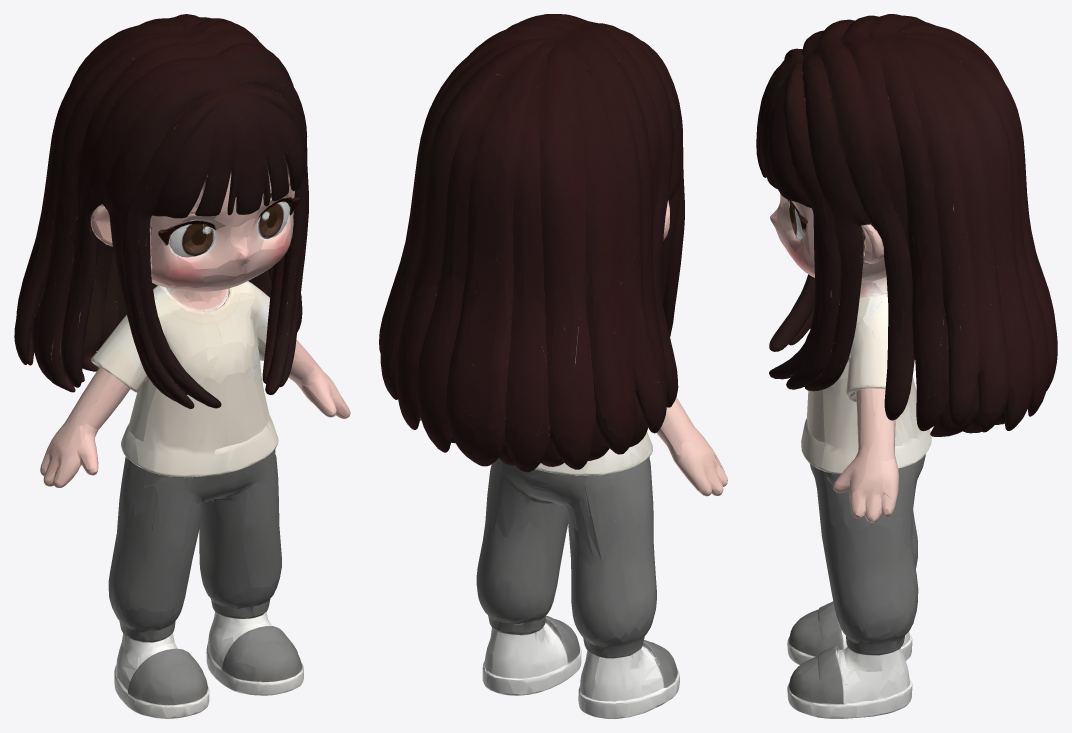
The model's file is hero_toy_b_meshy_mv_559fef1a.glb.
3 views of the same model, side by side, from view 1: azimuth 30°, elevation 25°; view 2: azimuth 150°, elevation 25°; view 3: azimuth 270°, elevation 25° (orthographic). The views are drawn at different scales.
Size of the model in its own units: 0.9304 by 1.9 by 0.7987.
Materials: 1 (1 with a texture image).
